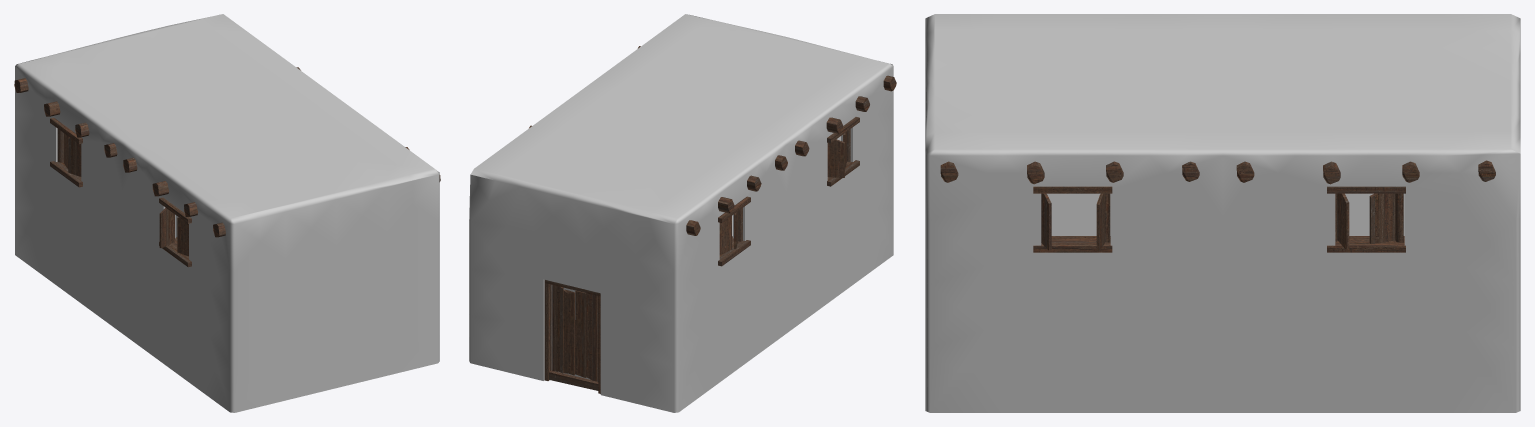
File: SM_Ev_Govde.fbx
The picture shows the model from 3 angles, left to right: view 1: azimuth 30°, elevation 25°; view 2: azimuth 150°, elevation 25°; view 3: azimuth 270°, elevation 25°; orthographic projection. The views are drawn at different scales.
Parts seen in each view (by area): view 1: SM_Ev, SM_Ev.002; view 2: SM_Ev, SM_Ev.003, SM_Ev.002; view 3: SM_Ev, SM_Ev.002.
Part boxes in pixels (x1,y1,x2,y2): SM_Ev: (15, 14, 439, 412); SM_Ev.002: (14, 67, 440, 267); SM_Ev: (469, 14, 893, 412); SM_Ev.003: (544, 280, 600, 393); SM_Ev.002: (529, 46, 896, 266); SM_Ev: (925, 14, 1520, 412); SM_Ev.002: (940, 160, 1495, 252).
Bounding box in the file's own units: 318 × 253 × 521.
